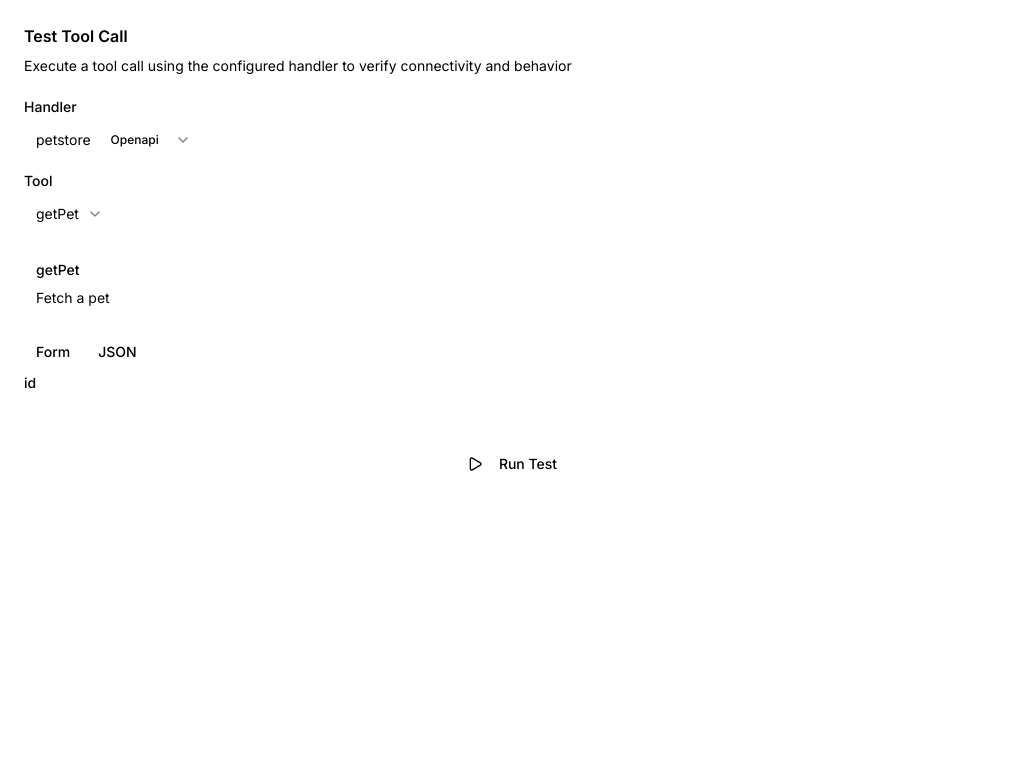
Scenario: ToolTestPanel — OpenAPI handler › runs a live OpenAPI tool and shows the result
Step 1. Click the button "Run Test" → point(512, 464), box [24,446,1000,482]
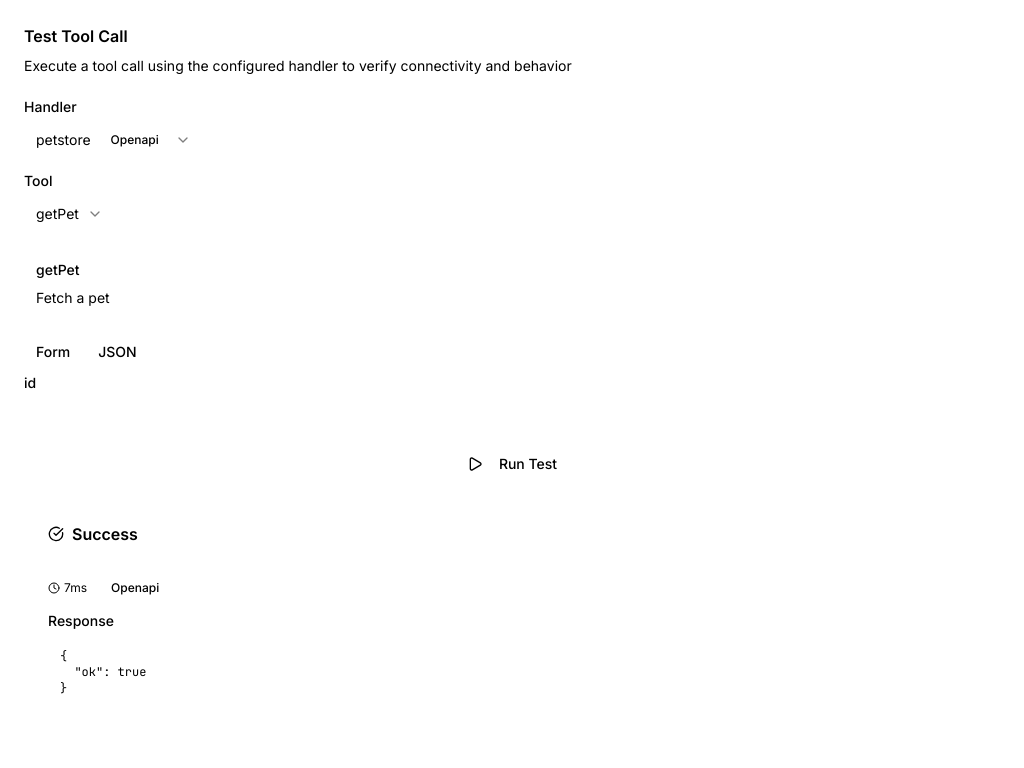
Expected: the 1st text "getPet" is shown, [36,204,79,224]
Expected: the text "Success" is shown, [48,524,138,544]
